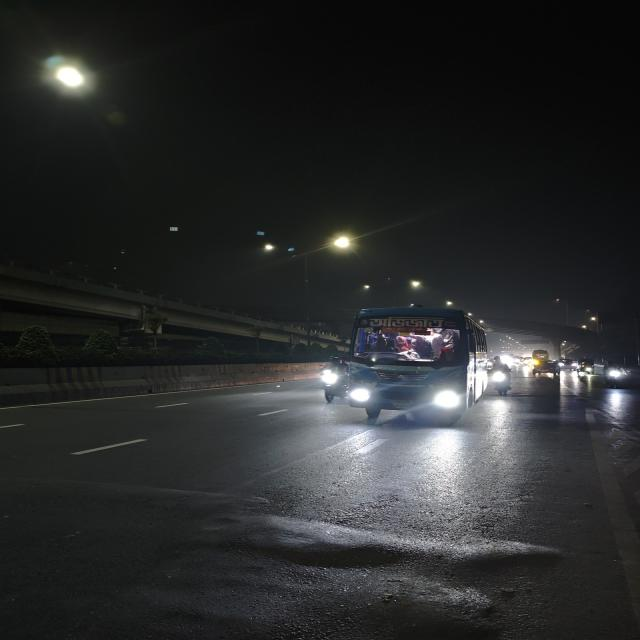bus: (346, 306, 490, 428), (528, 348, 551, 364)
car: (532, 361, 560, 376)
cng: (575, 358, 598, 377)
motorcycle: (311, 355, 345, 406), (492, 362, 516, 396)
